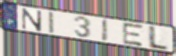3: (73, 15, 93, 39)
E: (121, 21, 145, 48)
I: (101, 18, 110, 43), (48, 10, 56, 35)
L: (146, 25, 170, 51)
N: (21, 8, 43, 33)
